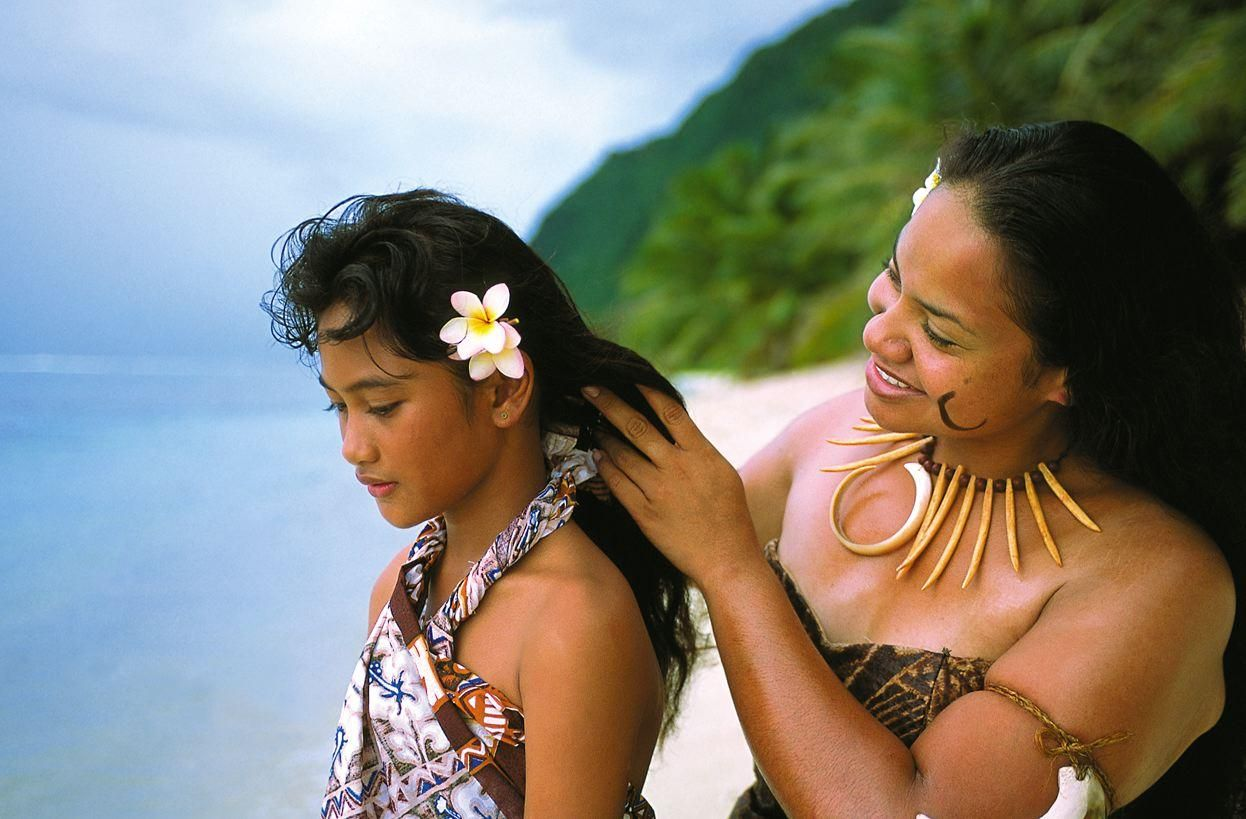person: (581, 114, 1246, 819), (257, 181, 723, 819)
